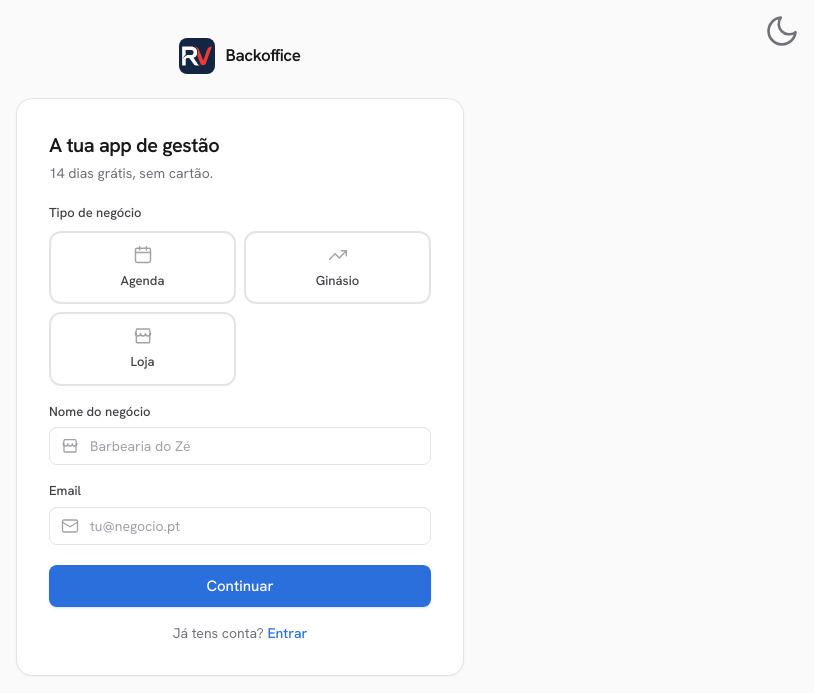
Scenario: Signup — passo 2 (plano): pré-seleção por vertical + total › a vertical escolhida pré-seleciona os módulos certos
Click the radio button labelled "Ginásio" at [338, 267], box [244,230,431,304]
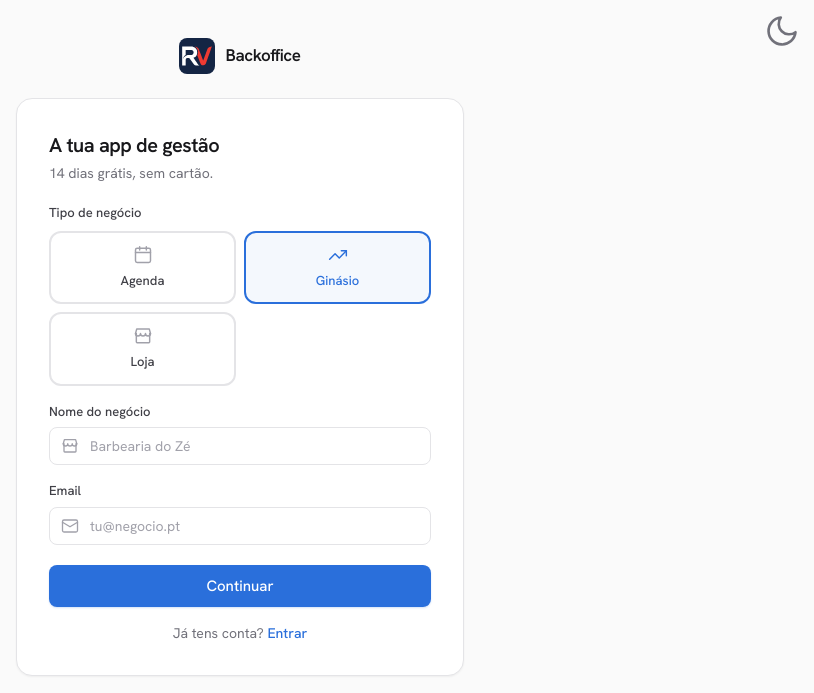
Type "O Meu Ginásio" into the field labelled "Nome do negócio" at [240, 446], box [49,427,431,465]
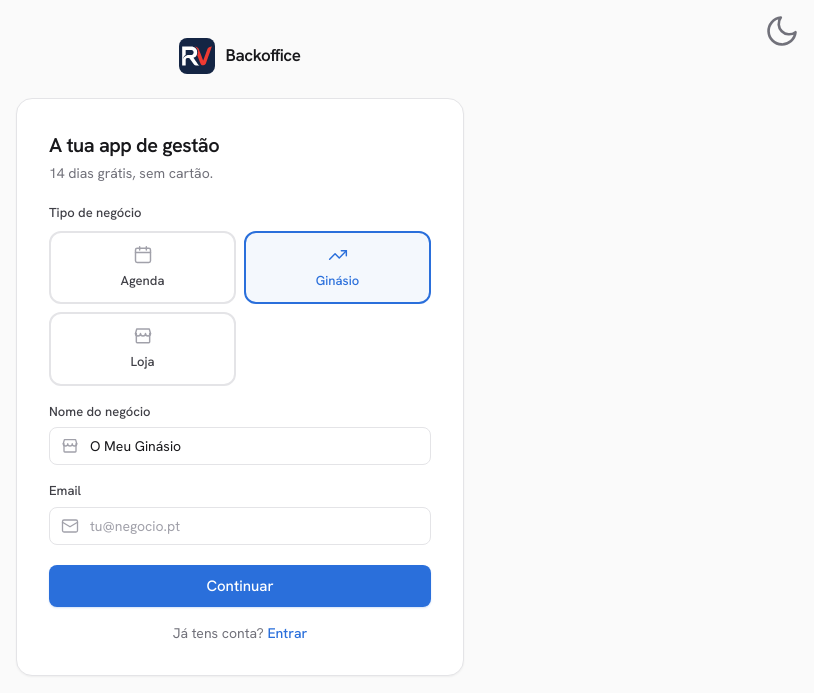
Type "dono@ginasio.pt" into the field labelled "Email" at [240, 526], box [49,506,431,544]
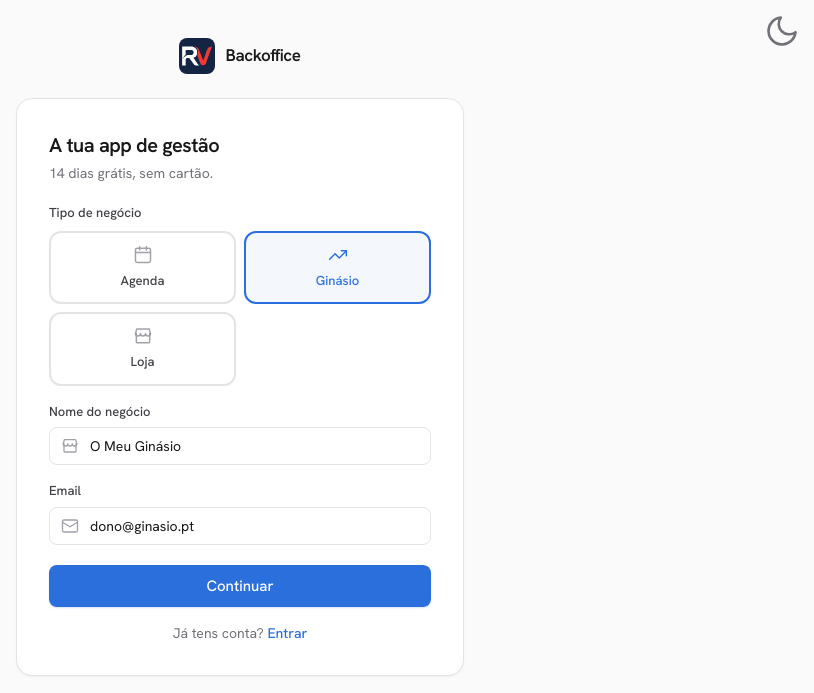
Click the button "Continuar" at [240, 586], box [49,564,431,607]
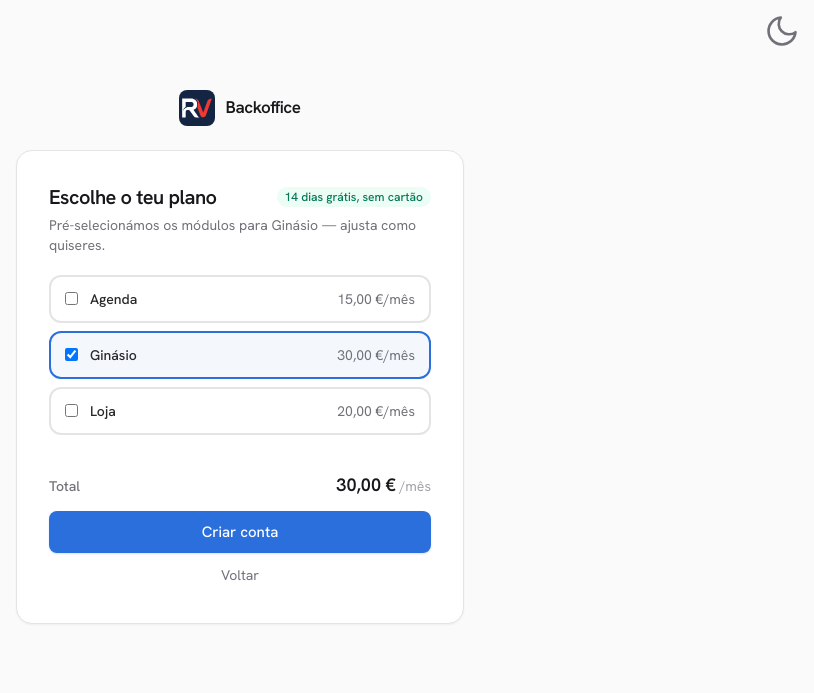
Expected: the heading "Escolhe o teu plano" is shown, [49,183,216,211]
Expected: the checkbox labelled "Ginásio" is checked, [65,348,78,361]
Expected: the checkbox labelled "Agenda" is not checked, [65,292,78,305]
